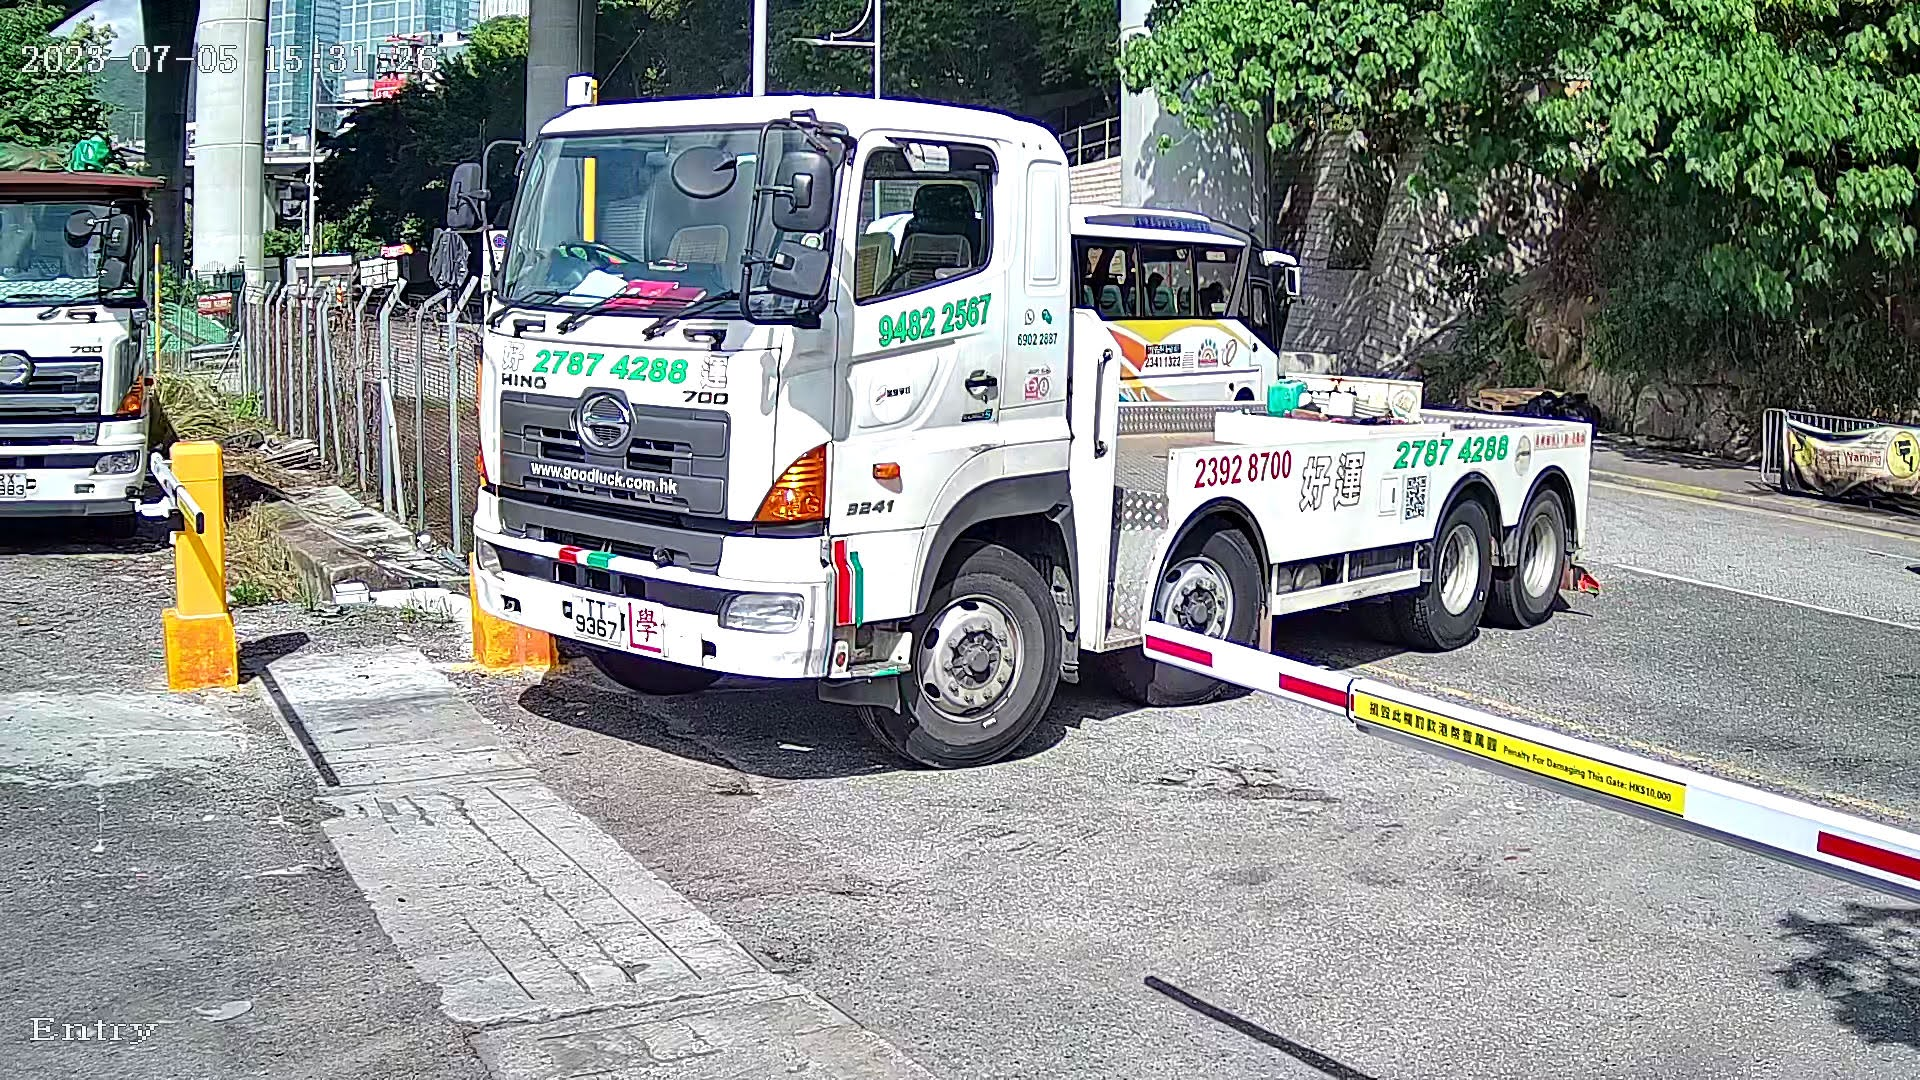truck: (409, 40, 1647, 802)
